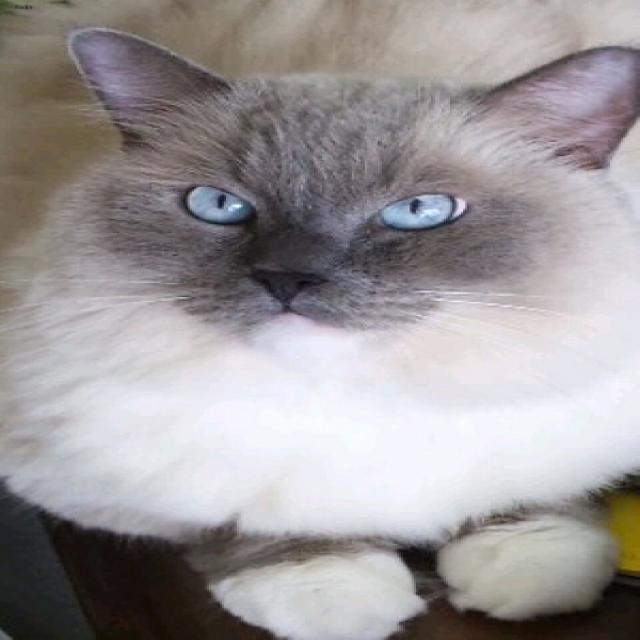Ragdoll: (64, 26, 636, 355)
